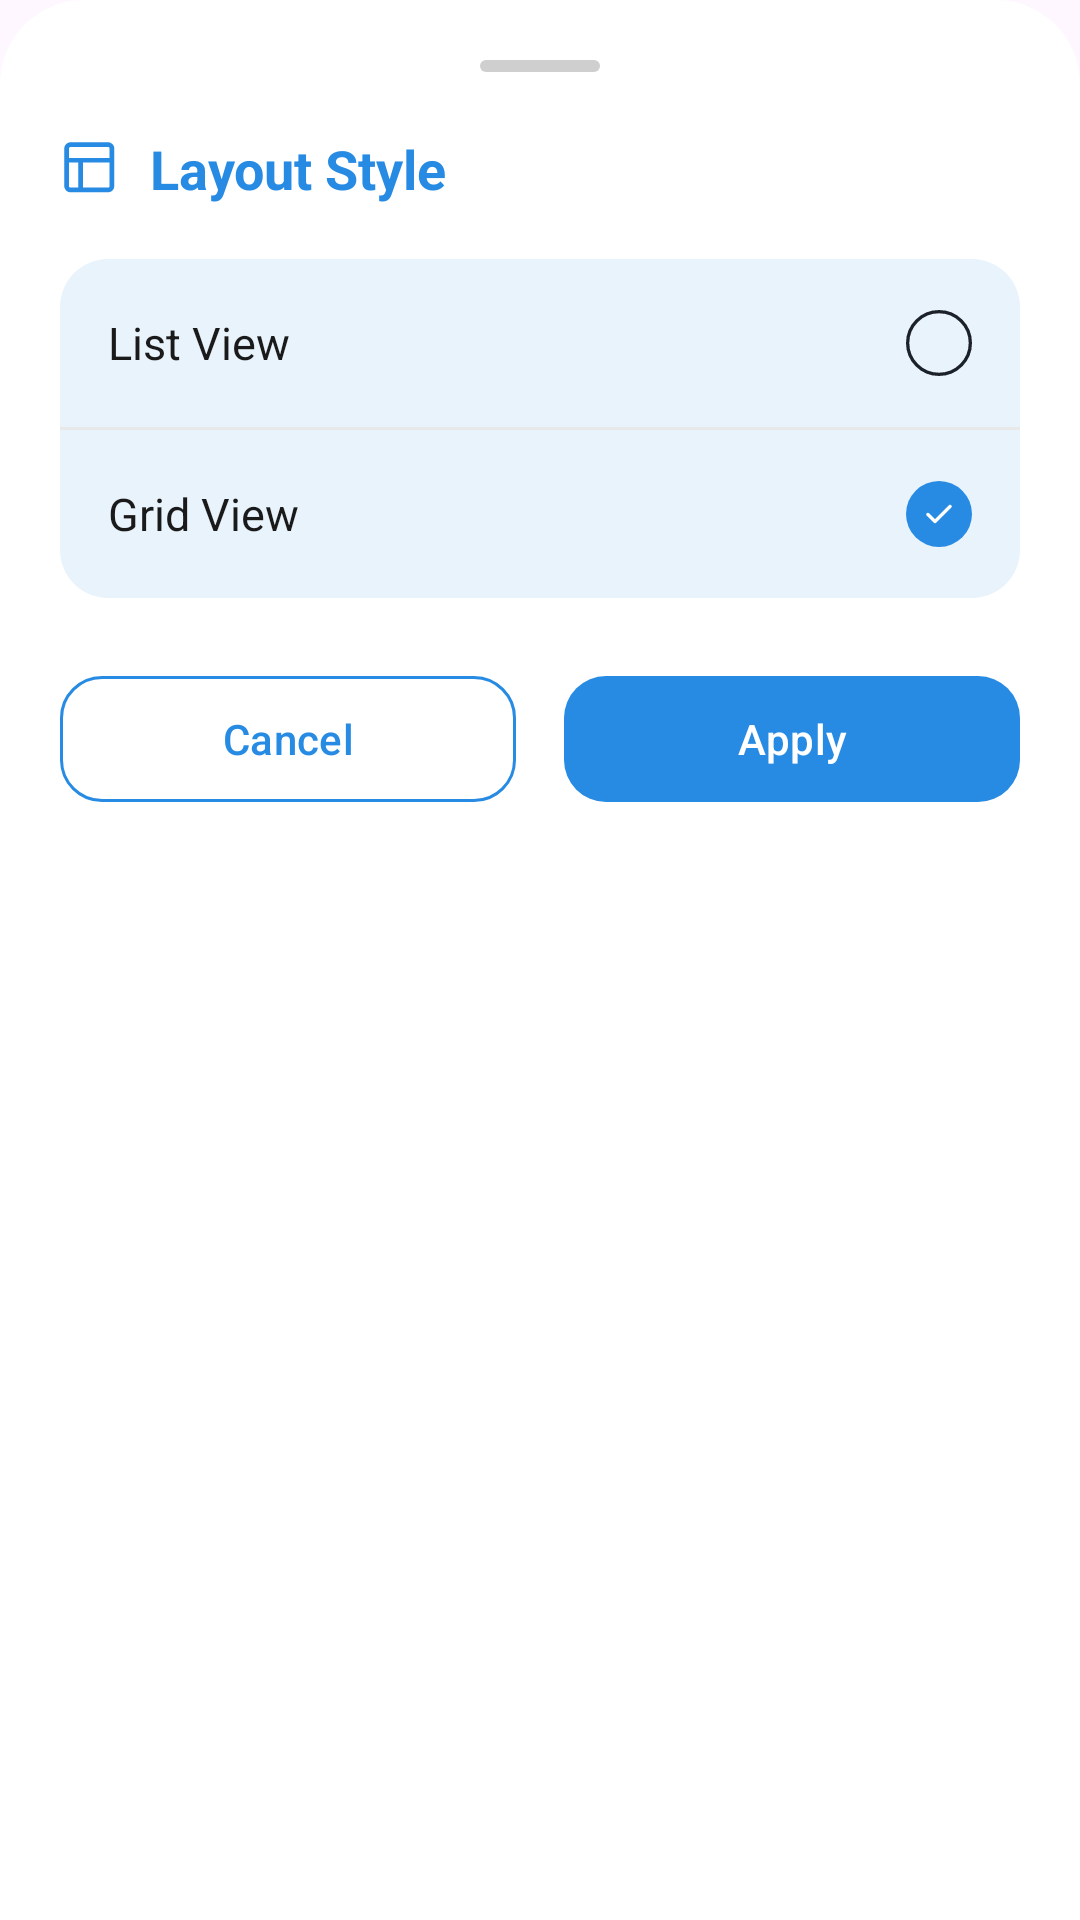

Icon bounding boxes for this 1080 x 1920 phone screenshot, format box(x1, y1, x2, y2):
check circle: box(906, 481, 972, 547)
